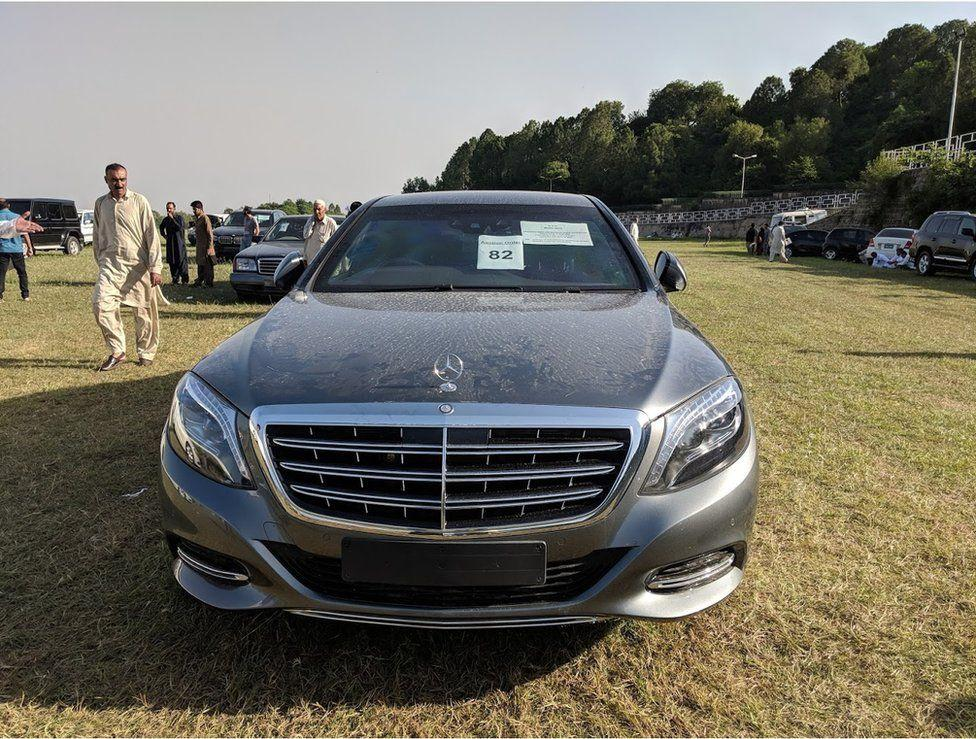windshield: (298, 196, 666, 310)
